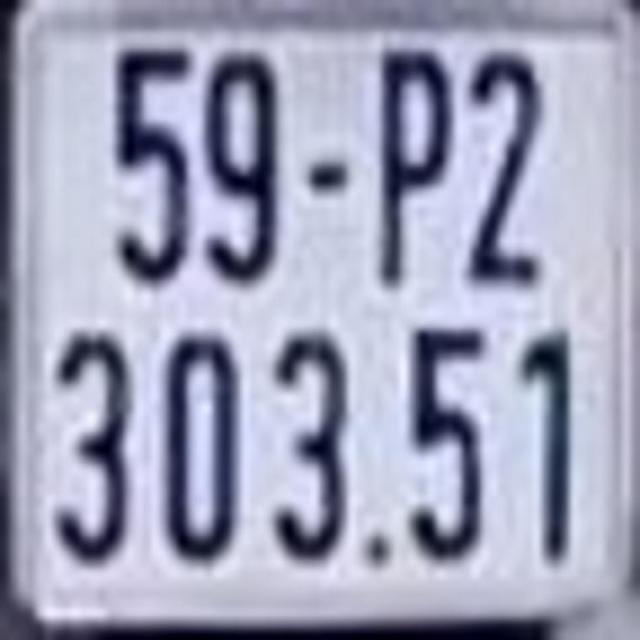0: (163, 331, 244, 559)
1: (522, 321, 589, 570)
2: (476, 50, 546, 297)
3: (270, 320, 350, 563), (56, 328, 134, 558)
5: (409, 327, 499, 564), (115, 49, 192, 282)
9: (207, 54, 277, 276)
P: (373, 45, 454, 292)
